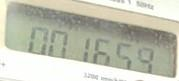1: (28, 25, 48, 57), (50, 28, 69, 59)
2: (83, 35, 92, 63)
6: (114, 39, 135, 71)
7: (95, 36, 110, 69)
object: (137, 43, 157, 76)
